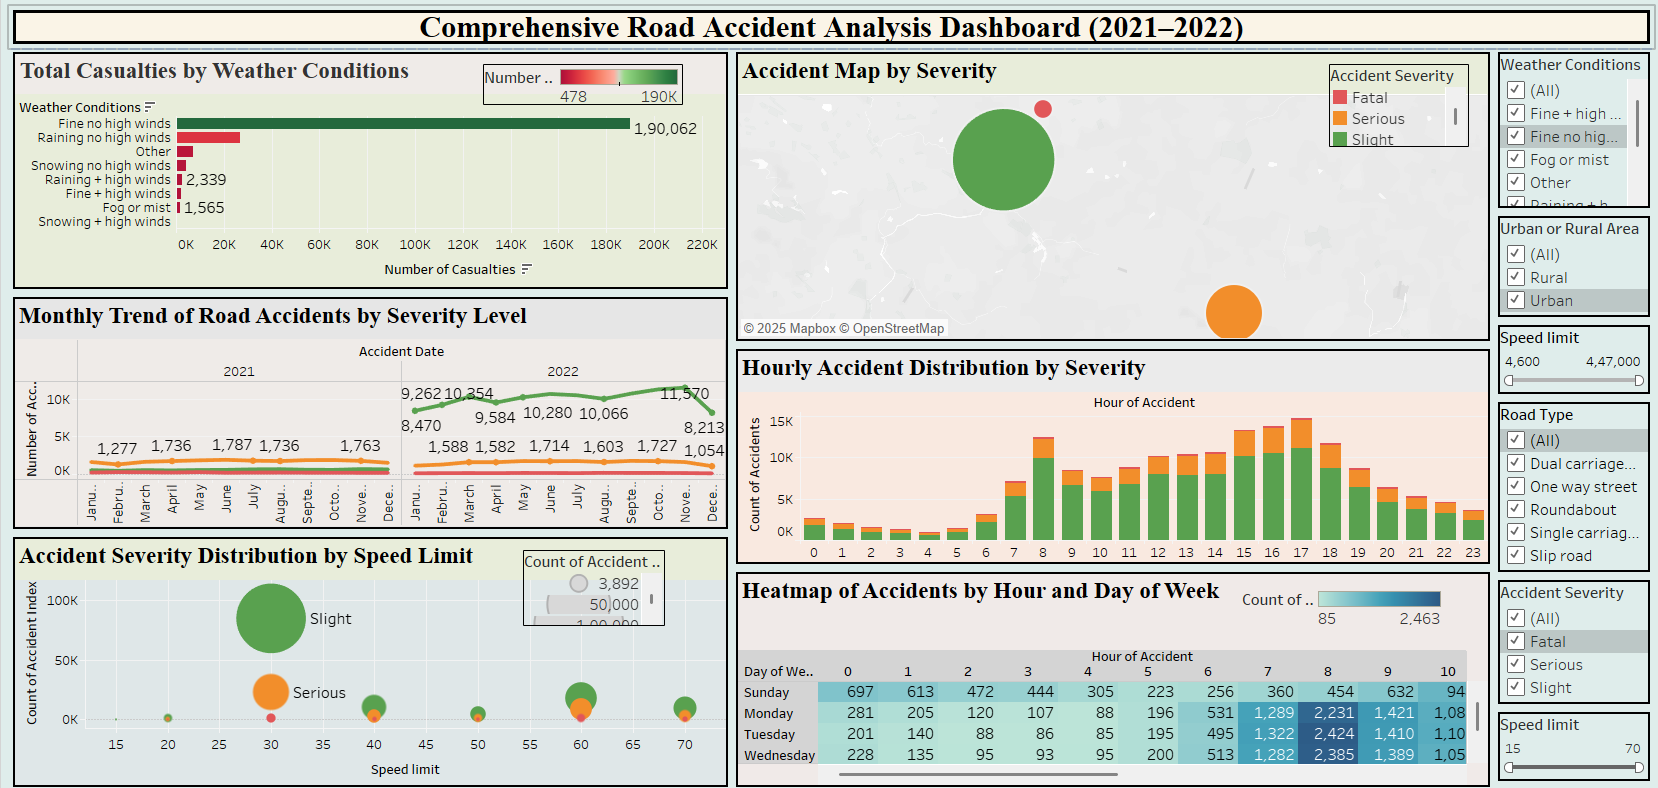

The dashboard page shown, as its layout file describes it:
{"tool":"tableau","page":{"name":"Dashboard 1","canvas":[1000,1000],"units":"permille","ordinal":0},"visuals":[{"type":"title","box":[4.8,10,990.4,52.4]},{"type":"worksheet","title":"Sheet 3","mark":"Bar","rows":["Weather_Conditions"],"cols":["Number_of_Casualties"],"box":[4.8,62.4,435.1,305.9]},{"type":"worksheet","title":"Sheet 4","mark":"Automatic","rows":["Latitude"],"cols":["Longitude"],"box":[439.9,62.4,458.9,371.4]},{"type":"filter","title":"Sheet 4","param":"[federated.08rkfin0au489f1bnmp8j1gvzhhk].[none:Weather_Conditions:nk]","box":[898.9,62.4,96.3,204.8]},{"type":"legend","title":"Sheet 3","param":"[federated.08rkfin0au489f1bnmp8j1gvzhhk].[sum:Number_of_Casualties:qk]","box":[290.2,82.4,120.4,51.2]},{"type":"legend","title":"Sheet 4","param":"[federated.08rkfin0au489f1bnmp8j1gvzhhk].[none:Accident_Severity:nk]","box":[799.5,82.4,84.3,103.6]},{"type":"filter","title":"Sheet 4","param":"[federated.08rkfin0au489f1bnmp8j1gvzhhk].[none:Urban_or_Rural_Area:nk]","box":[898.9,267.2,96.3,136.1]},{"type":"worksheet","title":"Sheet 1","mark":"Automatic","rows":["Accident_Index"],"cols":["Accident Date","Accident Date"],"box":[4.8,368.3,435.1,300.2]},{"type":"filter","title":"Sheet 1","param":"[federated.08rkfin0au489f1bnmp8j1gvzhhk].[sum:Speed_limit:qk]","box":[898.9,403.3,96.3,96.1]},{"type":"worksheet","title":"Sheet 5","mark":"Bar","rows":["Accident_Index"],"cols":["Calculation_2510475331235803139"],"box":[439.9,433.8,458.9,278.1]},{"type":"filter","title":"Sheet 1","param":"[federated.08rkfin0au489f1bnmp8j1gvzhhk].[none:Road_Type:nk]","box":[898.9,499.4,96.3,222.2]},{"type":"worksheet","title":"Sheet 7","mark":"Circle","rows":["Accident_Index"],"cols":["Speed_limit"],"box":[4.8,668.5,435.1,321.5]},{"type":"legend","title":"Sheet 4","param":"[federated.08rkfin0au489f1bnmp8j1gvzhhk].[cnt:Accident_Index:qk]","box":[314.3,689.1,85.5,94.9]},{"type":"worksheet","title":"Sheet 9","mark":"Square","rows":["Day_of_Week"],"cols":["Calculation_2510475331235803139"],"box":[439.9,711.9,458.9,278.1]},{"type":"filter","title":"Sheet 5","param":"[federated.08rkfin0au489f1bnmp8j1gvzhhk].[none:Accident_Severity:nk]","box":[898.9,721.6,96.3,164.8]},{"type":"legend","title":"Sheet 9","param":"[federated.08rkfin0au489f1bnmp8j1gvzhhk].[cnt:Accident_Index:qk]","box":[747.1,734.9,122.5,48.1]},{"type":"filter","title":"Sheet 7","param":"[federated.08rkfin0au489f1bnmp8j1gvzhhk].[none:Speed_limit:qk]","box":[898.9,886.4,96.3,96.1]}]}

Visuals, with their boxes on the dashboard's canvas, which has no fixed pixel size, in thousandths of its width and height (x1, y1, x2, y2). These are canvas units, not pixel positions in the 1658x788 screenshot, which may show the page scaled, cropped or inside an application window:
title: (x1=5, y1=10, x2=995, y2=62)
"Sheet 3" worksheet (Bar marks): (x1=5, y1=62, x2=440, y2=368)
"Sheet 4" worksheet: (x1=440, y1=62, x2=899, y2=434)
"Sheet 4" filter: (x1=899, y1=62, x2=995, y2=267)
"Sheet 3" legend: (x1=290, y1=82, x2=411, y2=134)
"Sheet 4" legend: (x1=800, y1=82, x2=884, y2=186)
"Sheet 4" filter: (x1=899, y1=267, x2=995, y2=403)
"Sheet 1" worksheet: (x1=5, y1=368, x2=440, y2=668)
"Sheet 1" filter: (x1=899, y1=403, x2=995, y2=499)
"Sheet 5" worksheet (Bar marks): (x1=440, y1=434, x2=899, y2=712)
"Sheet 1" filter: (x1=899, y1=499, x2=995, y2=722)
"Sheet 7" worksheet (Circle marks): (x1=5, y1=668, x2=440, y2=990)
"Sheet 4" legend: (x1=314, y1=689, x2=400, y2=784)
"Sheet 9" worksheet (Square marks): (x1=440, y1=712, x2=899, y2=990)
"Sheet 5" filter: (x1=899, y1=722, x2=995, y2=886)
"Sheet 9" legend: (x1=747, y1=735, x2=870, y2=783)
"Sheet 7" filter: (x1=899, y1=886, x2=995, y2=982)
